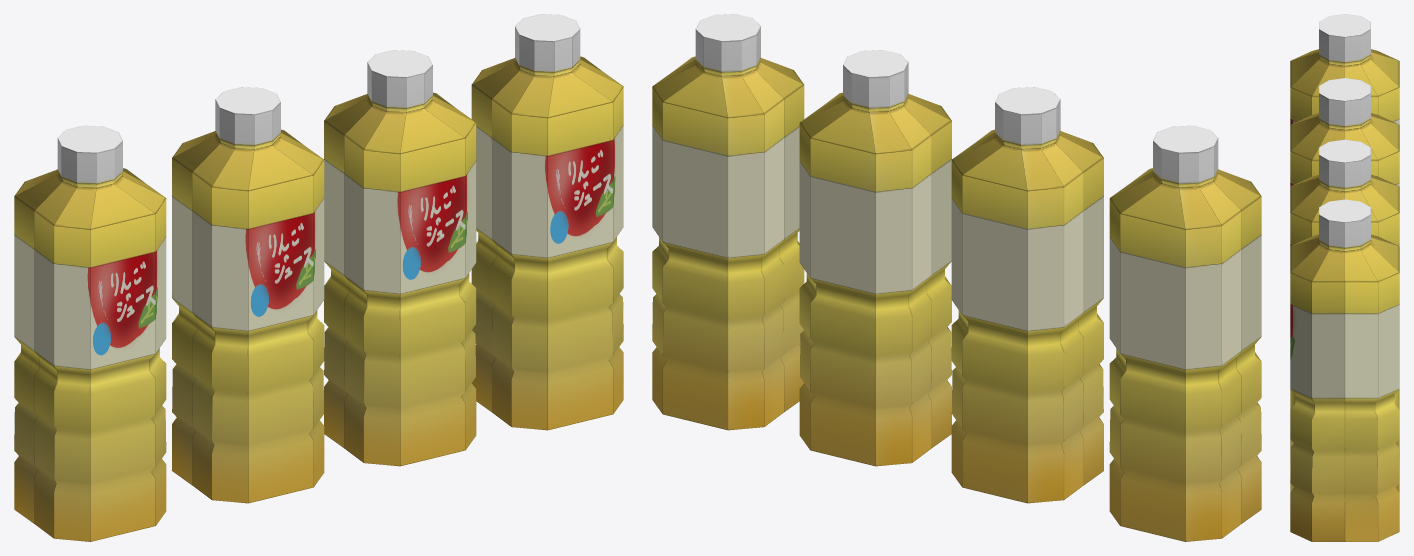
File: drink_F2_box.fbx
The picture shows the model from 3 angles, left to right: view 1: azimuth 30°, elevation 25°; view 2: azimuth 150°, elevation 25°; view 3: azimuth 270°, elevation 25°; orthographic projection. The views are drawn at different scales.
Visible parts, largest first — view 1: drink_F2_box; view 2: drink_F2_box; view 3: drink_F2_box.
Part boxes in pixels (left/top/right/bottom): drink_F2_box: left=14, top=14, right=623, bottom=541; drink_F2_box: left=652, top=14, right=1261, bottom=541; drink_F2_box: left=1290, top=14, right=1399, bottom=541.
Size of the model in its own units: 142 by 88.37 by 28.37.
1 material, 1 textured.
